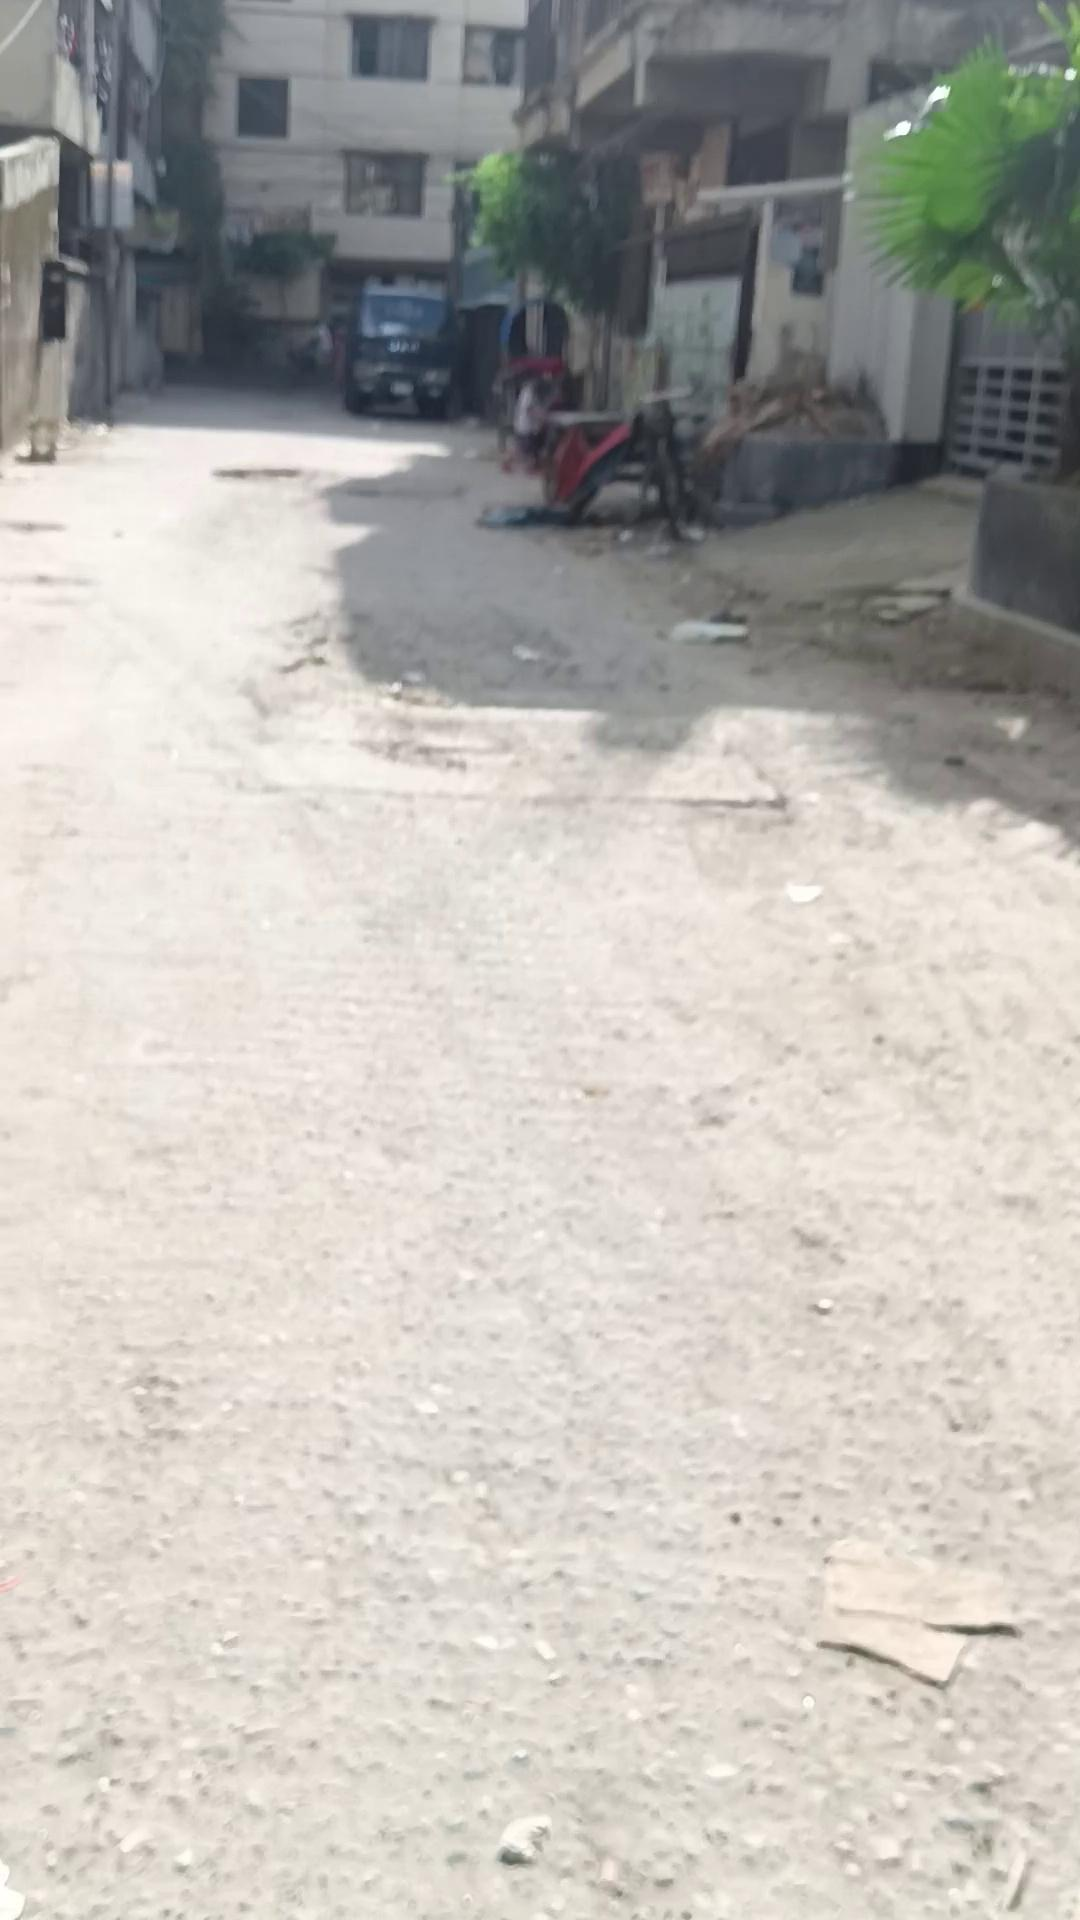Crosswalk: (945, 463, 1077, 687)
Muddy road: (495, 274, 570, 471)
Pole: (840, 1, 1079, 647)
Pothole: (487, 353, 717, 543)
Traffic-sign: (340, 278, 464, 419)
